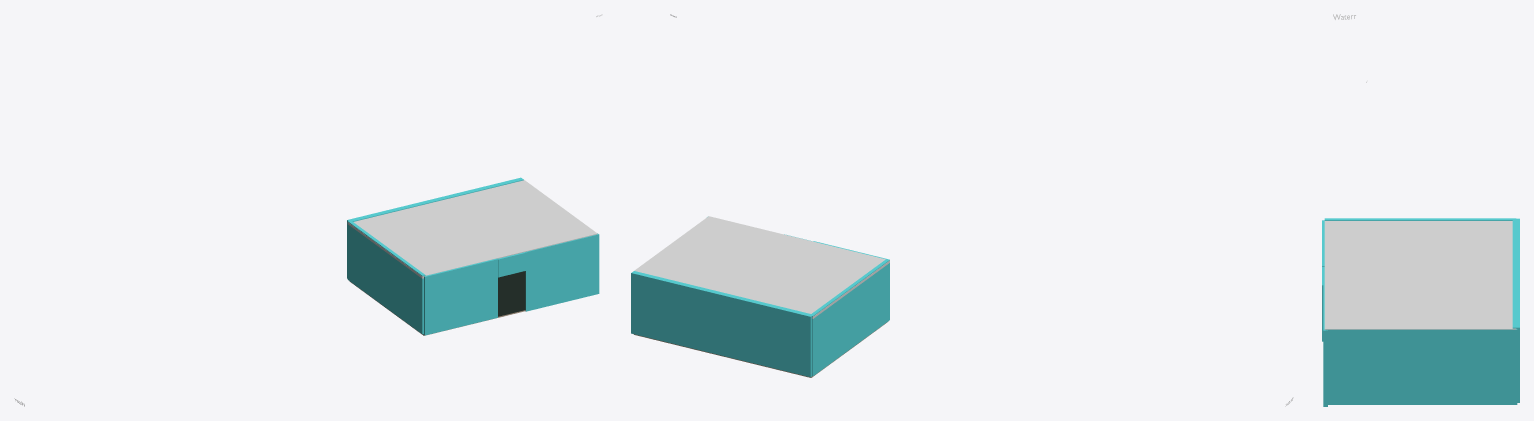
The model's file is Kitchen.fbx.
3 views of the same model, side by side, from view 1: azimuth 30°, elevation 25°; view 2: azimuth 150°, elevation 25°; view 3: azimuth 270°, elevation 25° (orthographic). The views are drawn at different scales.
Parts seen in each view (by area): view 1: ceiling, leftwall, FW_left.001, FW_left, door, wall, FW_top; view 2: ceiling, wall, leftwall; view 3: ceiling, leftwall.001, wall, leftwall, FW_left.001, FW_left.
Boxes of the visible parts, left/top/right/bottom form: ceiling: left=347, top=180, right=597, bottom=278; leftwall: left=347, top=221, right=425, bottom=334; FW_left.001: left=525, top=233, right=599, bottom=311; FW_left: left=423, top=258, right=497, bottom=335; door: left=498, top=271, right=525, bottom=316; wall: left=347, top=177, right=523, bottom=278; FW_top: left=498, top=252, right=527, bottom=277; ceiling: left=633, top=216, right=889, bottom=318; wall: left=631, top=271, right=813, bottom=377; leftwall: left=812, top=259, right=889, bottom=376; ceiling: left=1324, top=221, right=1516, bottom=329; leftwall.001: left=1326, top=329, right=1517, bottom=404; wall: left=1512, top=218, right=1519, bottom=402; leftwall: left=1324, top=218, right=1515, bottom=220; FW_left.001: left=1323, top=284, right=1327, bottom=406; FW_left: left=1322, top=220, right=1324, bottom=341.
Bounding box in the file's own units: 2751 × 1166 × 619.
Materials: 49 (22 with a texture image).
